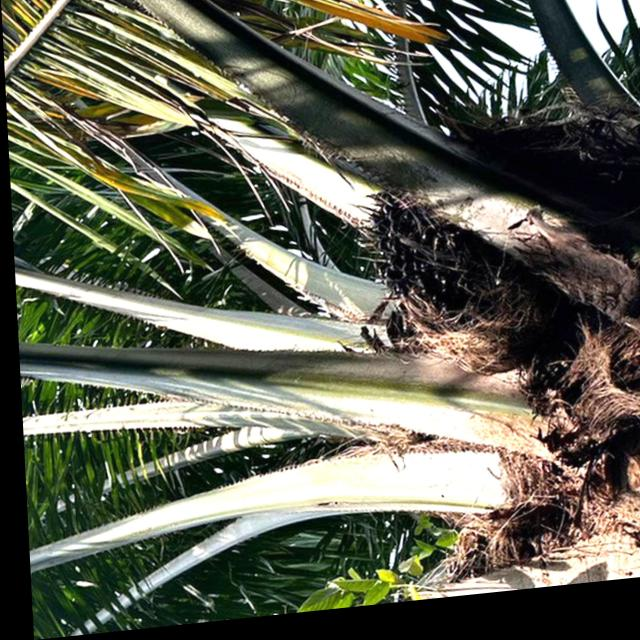almost: (343, 185, 535, 400)
